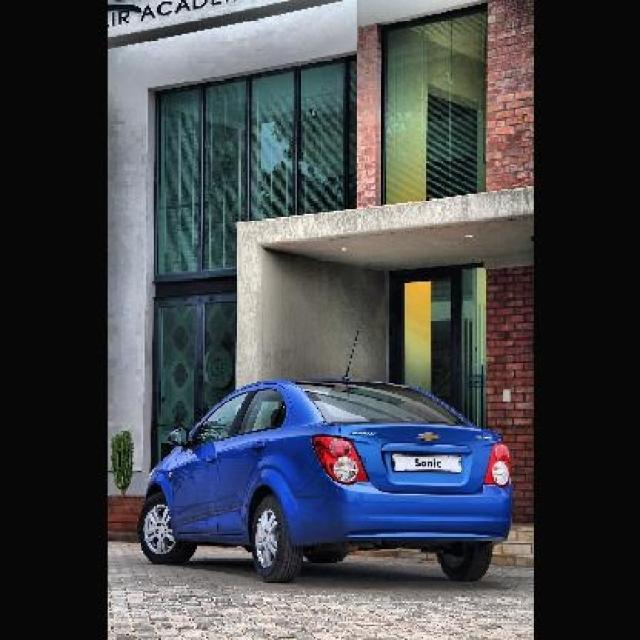blue: (138, 367, 518, 573)
